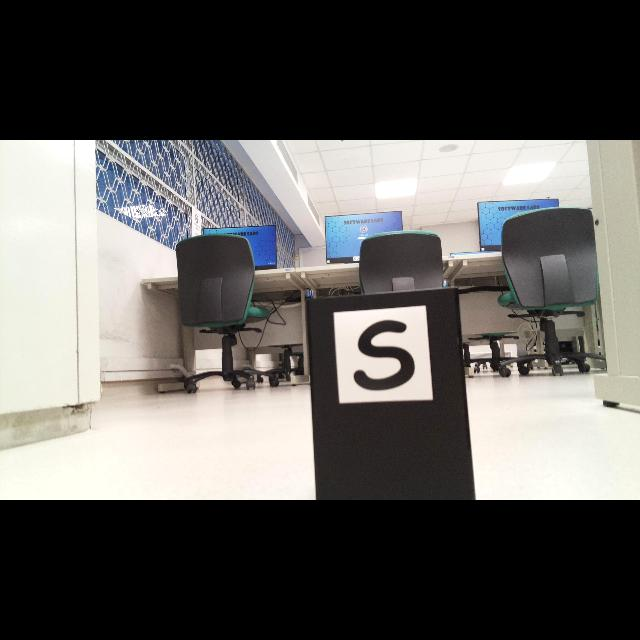S: (353, 321, 415, 391)
